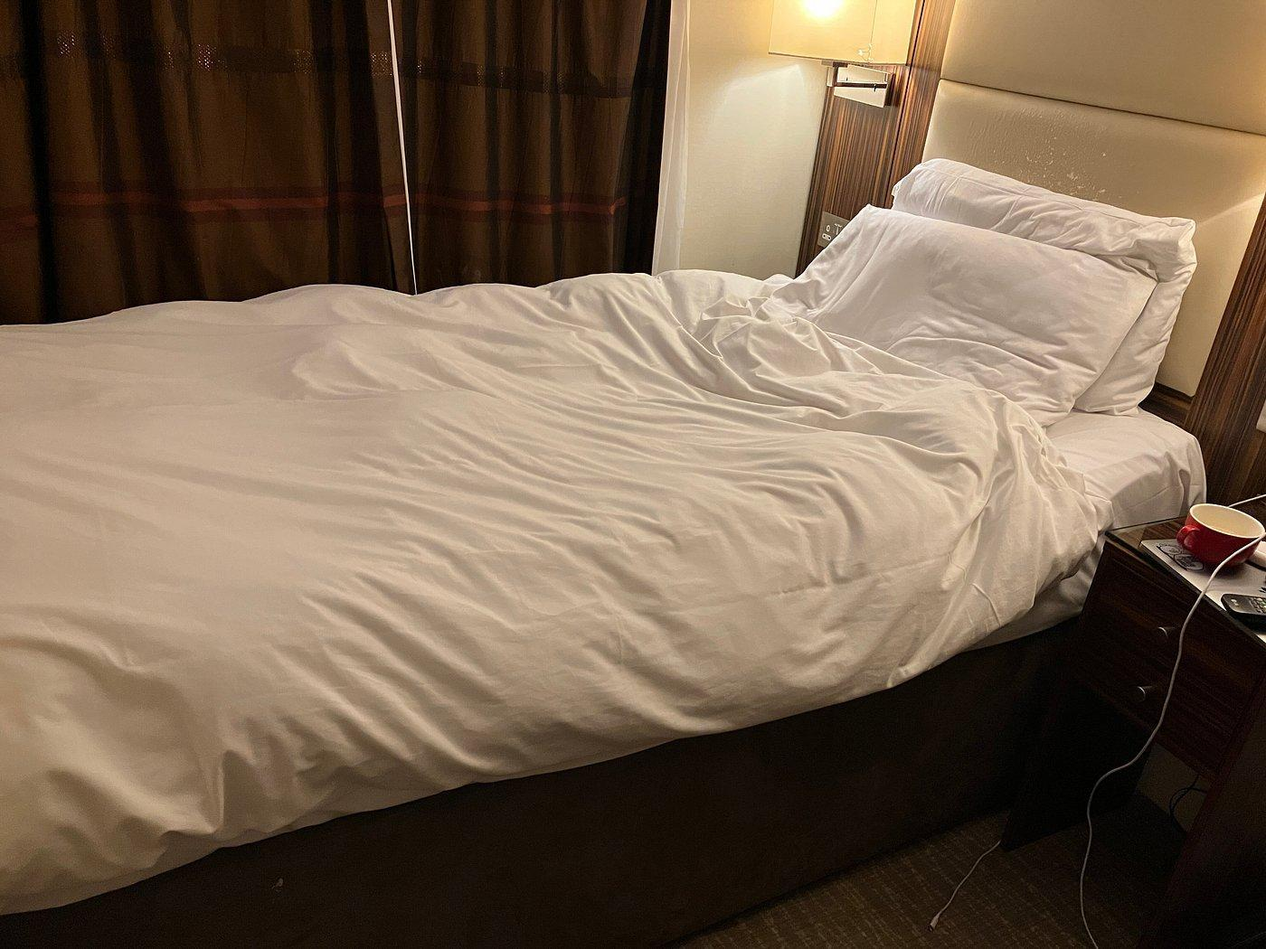Disorganized_pillow: (776, 146, 1210, 429)
messy_bed: (8, 84, 1265, 910)
